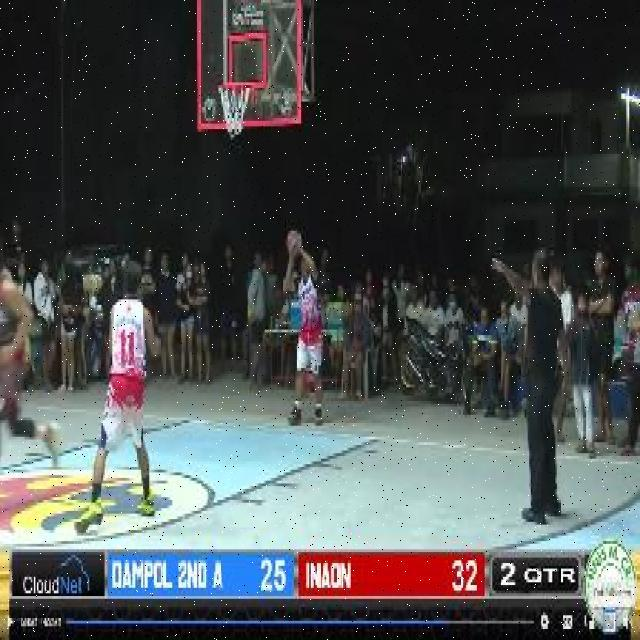ball: (286, 226, 305, 262)
